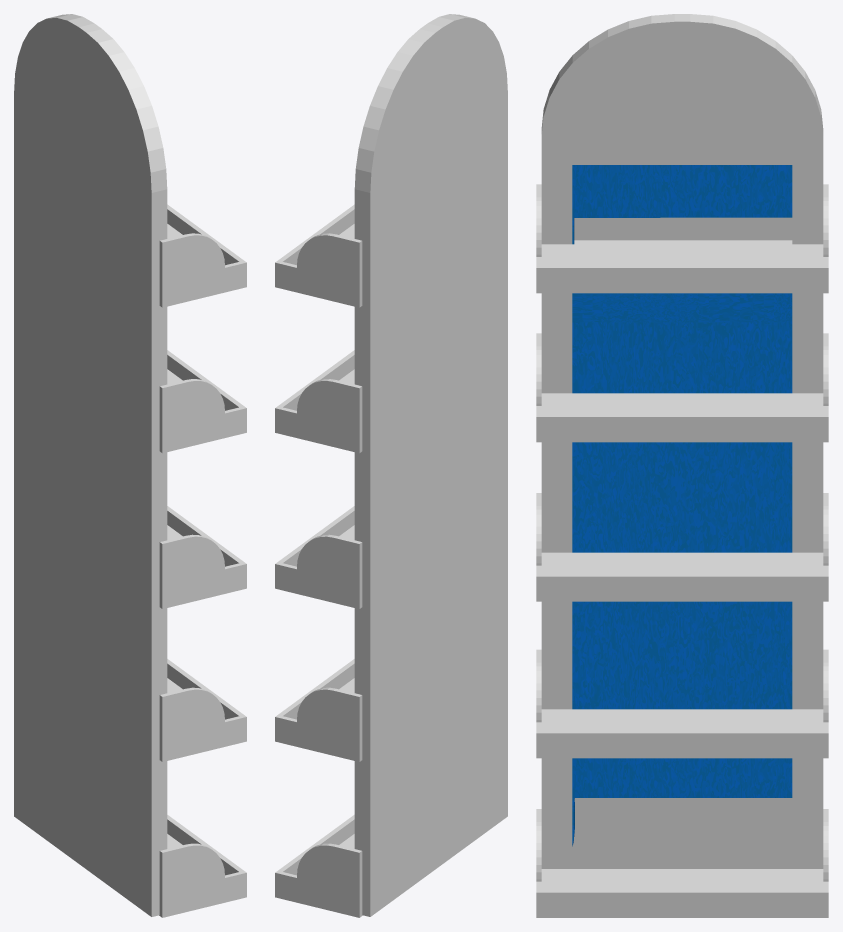
Rendered from stand2 1.fbx.
3 views of the same model, side by side, from view 1: azimuth 30°, elevation 25°; view 2: azimuth 150°, elevation 25°; view 3: azimuth 270°, elevation 25° (orthographic). The views are drawn at different scales.
Visible parts, largest first — view 1: Cube, stand, stand.004, stand.002, stand.001, stand.003; view 2: Cube, stand, stand.002, stand.004, stand.003, stand.001; view 3: Cube, stand.004, stand.001, stand.003, stand.002, stand.
Boxes of the visible parts, left/top/right/bottom form: Cube: left=14, top=14, right=167, bottom=916; stand: left=159, top=815, right=246, bottom=917; stand.004: left=159, top=204, right=246, bottom=307; stand.002: left=159, top=506, right=246, bottom=608; stand.001: left=159, top=659, right=246, bottom=761; stand.003: left=159, top=350, right=246, bottom=453; Cube: left=354, top=14, right=507, bottom=916; stand: left=275, top=814, right=362, bottom=917; stand.002: left=275, top=506, right=362, bottom=608; stand.004: left=275, top=204, right=362, bottom=307; stand.003: left=275, top=350, right=362, bottom=453; stand.001: left=275, top=659, right=362, bottom=761; Cube: left=541, top=14, right=823, bottom=868; stand.004: left=536, top=184, right=828, bottom=293; stand.001: left=536, top=649, right=828, bottom=758; stand.003: left=536, top=333, right=828, bottom=442; stand.002: left=536, top=493, right=828, bottom=601; stand: left=536, top=809, right=828, bottom=917.
Bounding box in the file's own units: 95 × 821 × 254.
